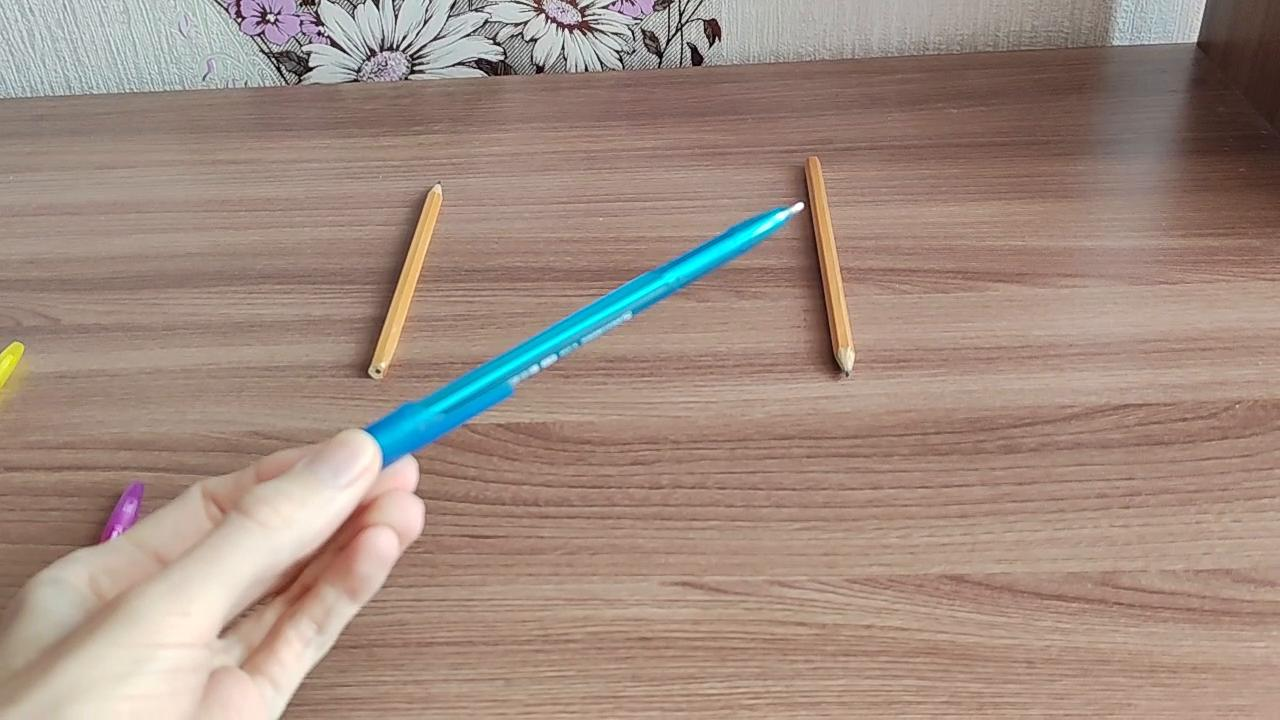pen: (367, 195, 806, 471)
pencil: (365, 180, 449, 384), (803, 147, 859, 383)
